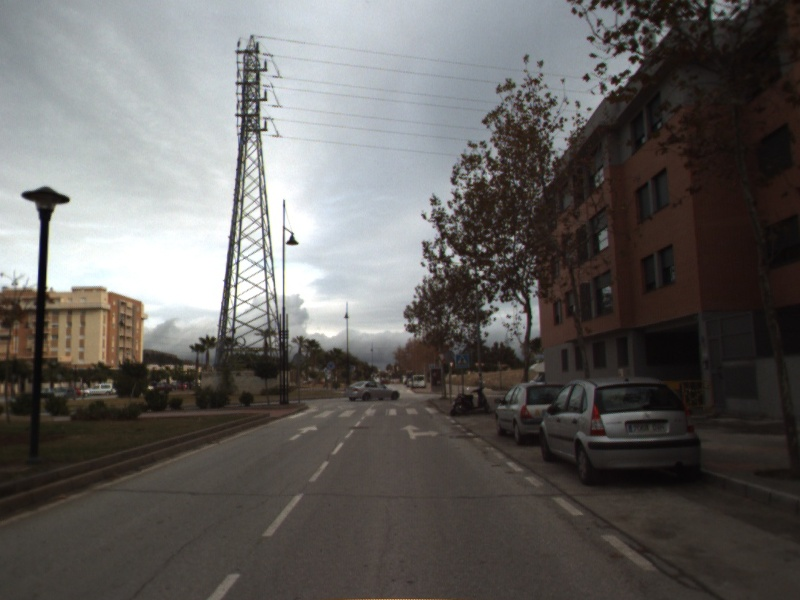STRAIGHT: (287, 423, 320, 442)
STRAIGHT_RIGHT: (398, 422, 441, 441)
